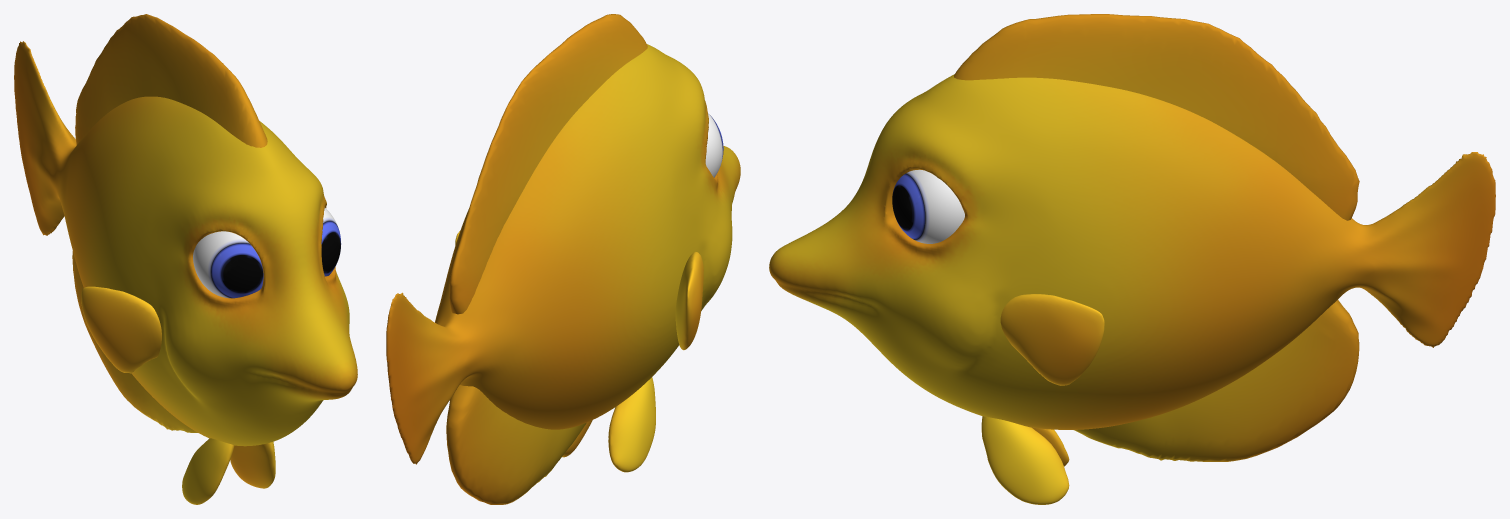
File: Fishes_Little_Tang Yellow_1_Base.glb
3 views of the same model, side by side, from view 1: azimuth 30°, elevation 25°; view 2: azimuth 150°, elevation 25°; view 3: azimuth 270°, elevation 25° (orthographic). The views are drawn at different scales.
Parts seen in each view (by area): view 1: Sphere.020, Sphere.019, Sphere.018, Little fish 02 Eyes_Base.007, Sphere.022; view 2: Sphere.020, Sphere.019, Sphere.022, Sphere.018, Little fish 02 Eyes_Base.007; view 3: Sphere.020, Sphere.019, Sphere.018, Sphere.022, Little fish 02 Eyes_Base.007.
Boxes of the visible parts, bbox=[...] form: Sphere.020: bbox=[14, 41, 357, 446]; Sphere.019: bbox=[72, 14, 267, 432]; Sphere.018: bbox=[81, 286, 161, 373]; Little fish 02 Eyes_Base.007: bbox=[193, 208, 341, 298]; Sphere.022: bbox=[182, 438, 275, 504]; Sphere.020: bbox=[386, 44, 740, 464]; Sphere.019: bbox=[446, 14, 647, 504]; Sphere.022: bbox=[562, 377, 655, 472]; Sphere.018: bbox=[455, 231, 703, 350]; Little fish 02 Eyes_Base.007: bbox=[705, 113, 723, 177]; Sphere.020: bbox=[769, 74, 1495, 429]; Sphere.019: bbox=[954, 14, 1359, 461]; Sphere.018: bbox=[1000, 294, 1104, 385]; Sphere.022: bbox=[981, 416, 1069, 504]; Little fish 02 Eyes_Base.007: bbox=[892, 169, 964, 243].
Bounding box in the file's own units: 0.2402 × 0.4363 × 0.6077.
